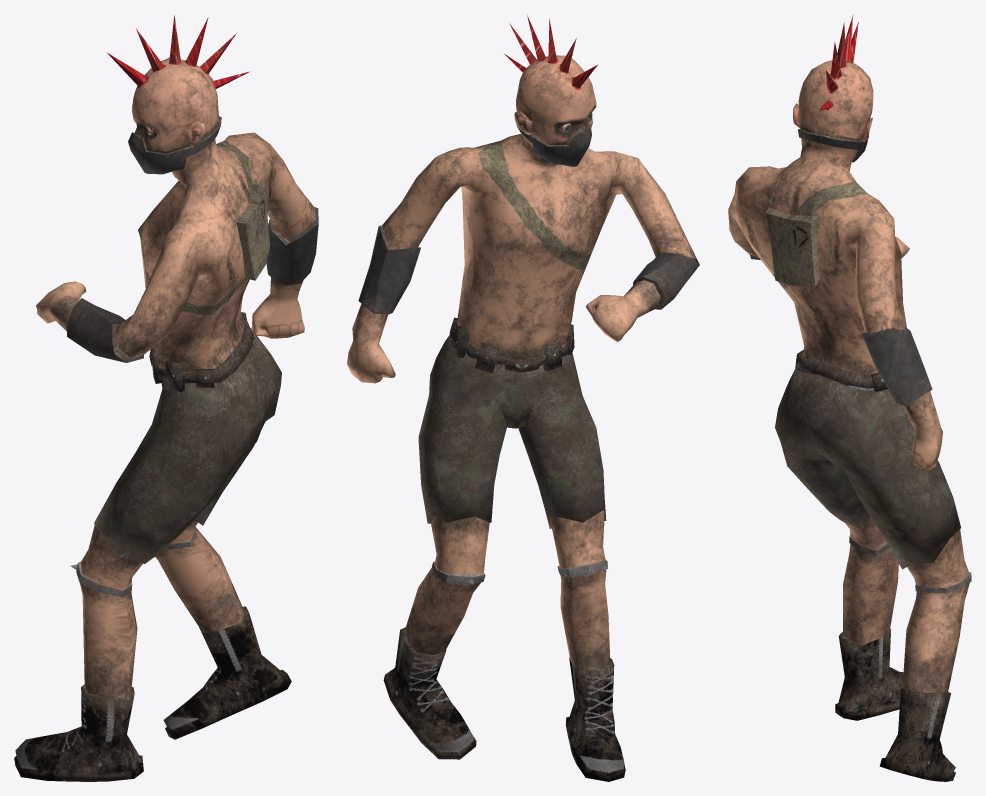
Rendered from Anim_ataque_f3_npc2.0040.obj.
3 renders of one model, left to right at view 1: azimuth 30°, elevation 25°; view 2: azimuth 150°, elevation 25°; view 3: azimuth 270°, elevation 25°, orthographic. The views are drawn at different scales.
Parts seen in each view (by area): view 1: polySurface1; view 2: polySurface1; view 3: polySurface1.
Part boxes in pixels (x1=…): polySurface1: x1=14, y1=15, x2=318, y2=781; polySurface1: x1=347, y1=15, x2=699, y2=781; polySurface1: x1=728, y1=14, x2=971, y2=781.
Size of the model in its own units: 3.94 by 10.02 by 3.03.
